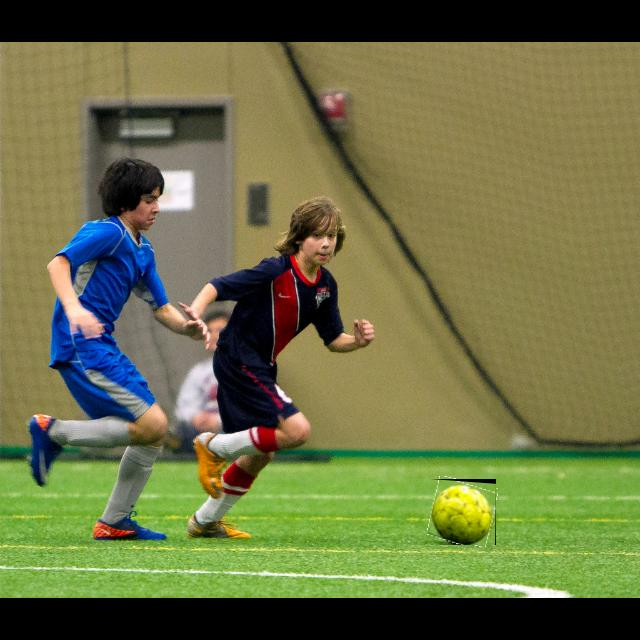Football: (430, 479, 496, 545)
